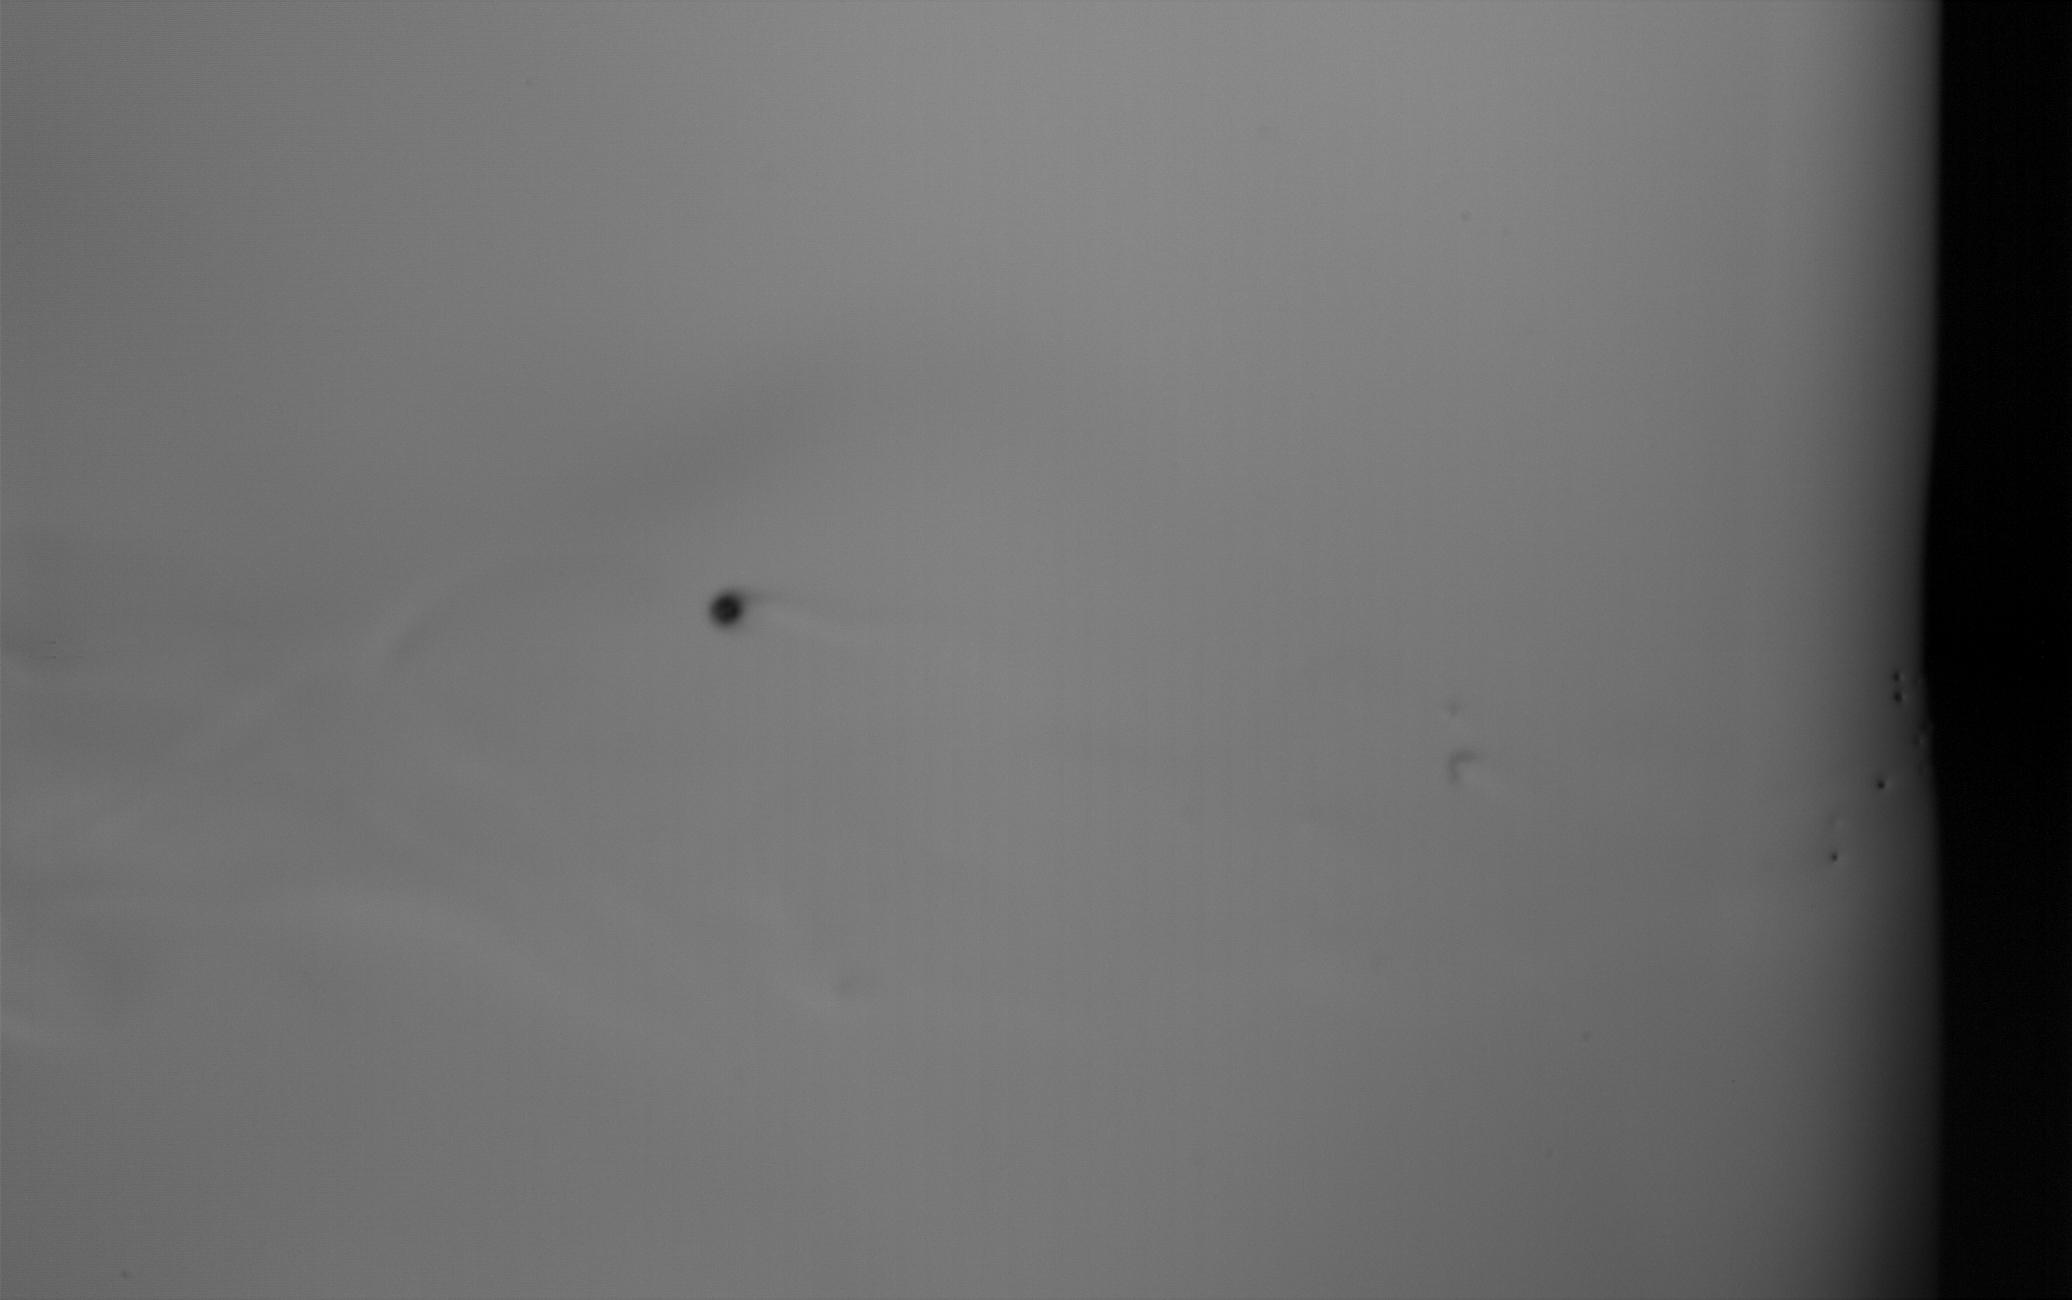Blurry: (1440, 741, 1484, 791)
ClassicalEvaporation: (707, 586, 750, 631), (1892, 687, 1906, 702), (1889, 669, 1903, 683), (1874, 777, 1886, 789), (1828, 851, 1838, 863)
